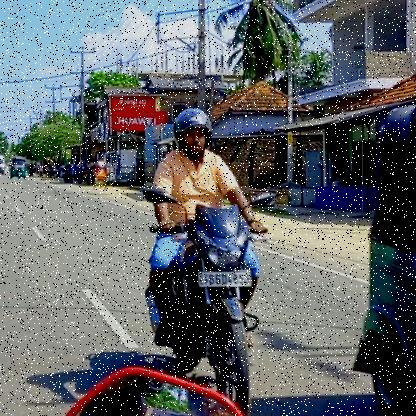motorcycle: (140, 203, 285, 416)
